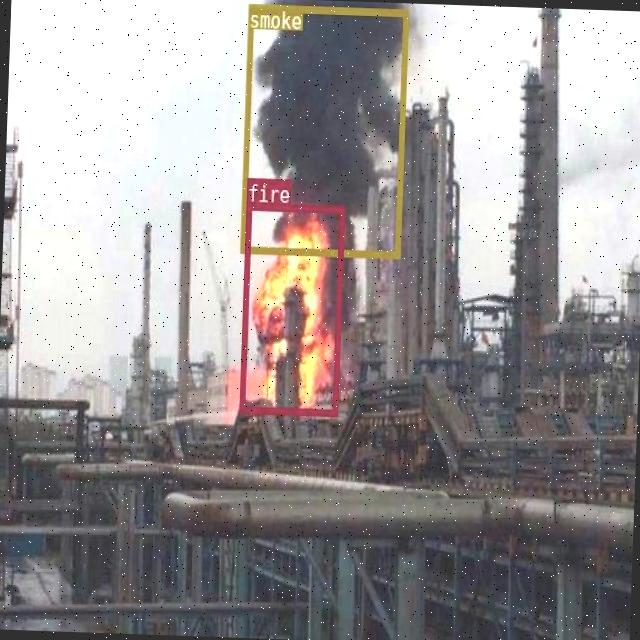fire: (238, 201, 344, 414)
smoke: (238, 3, 408, 257)
